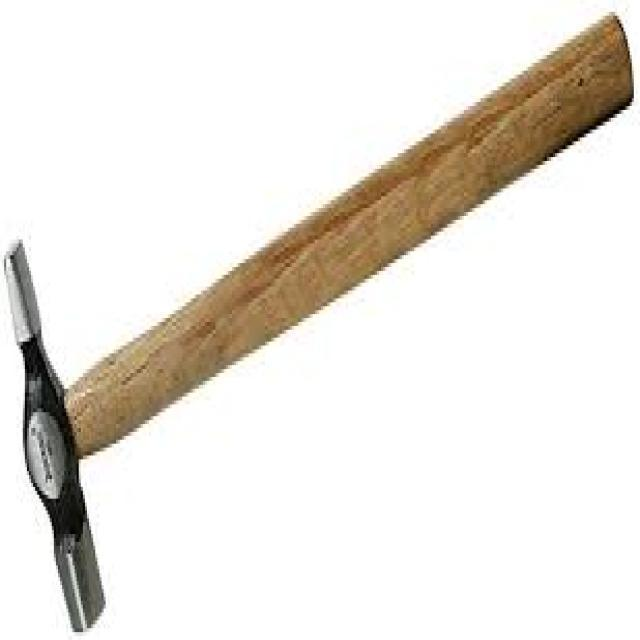Palu: (0, 0, 630, 613)
